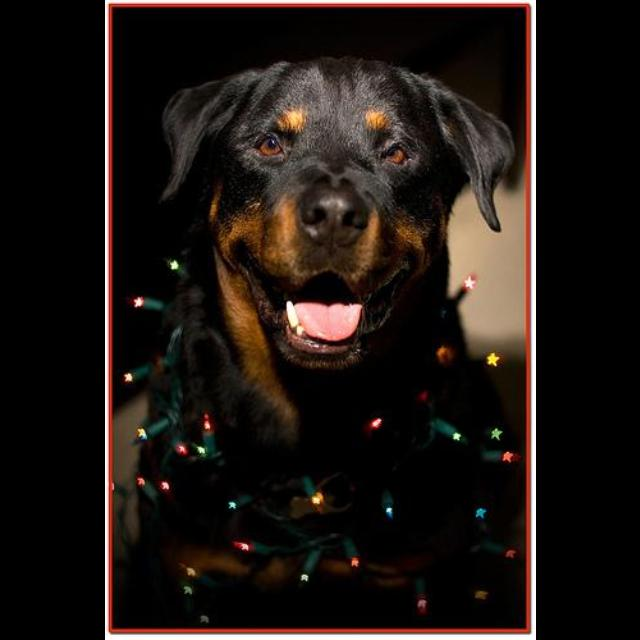rottweiler: (130, 55, 520, 625)
